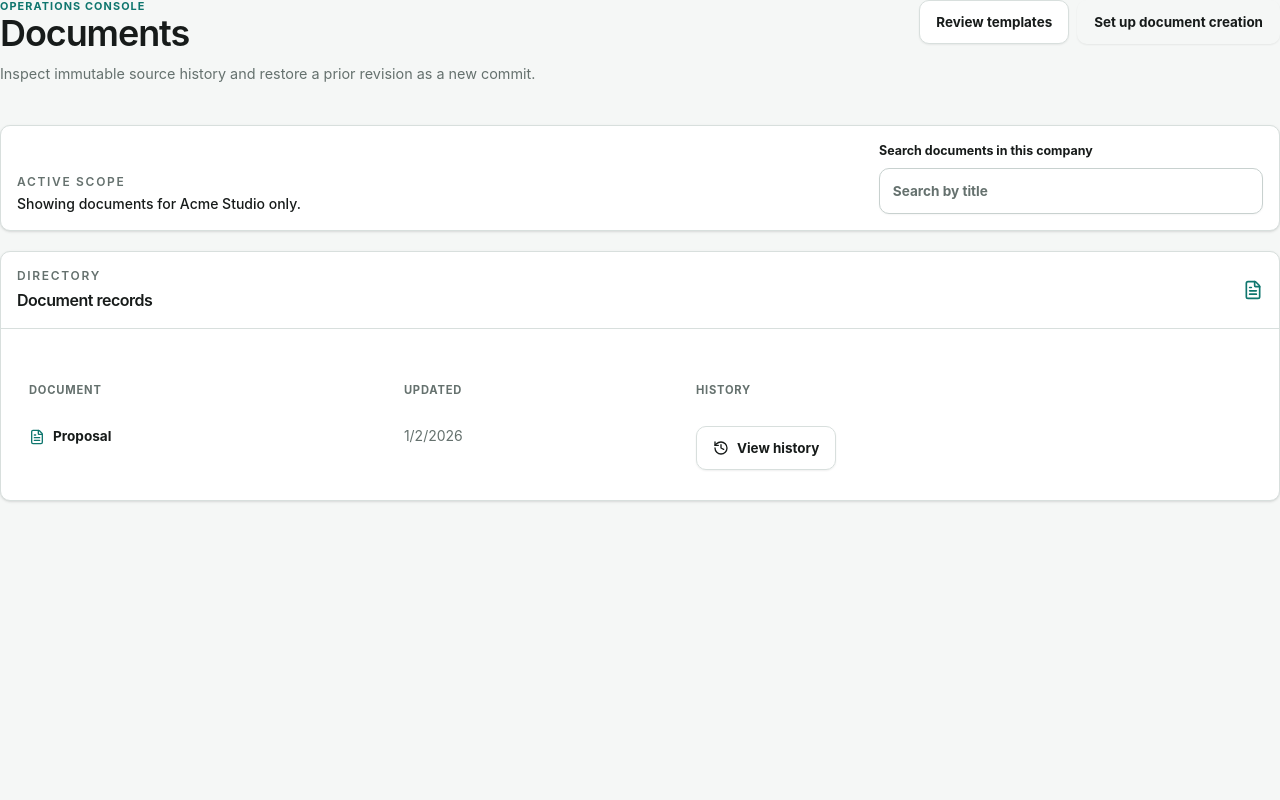
Test: DocumentsDashboard › shows commit metadata and loads historical source when a commit is selected
Click the button "View history" at coordinates (766, 448), box 696,426 -> 836,470
(page scrolled)
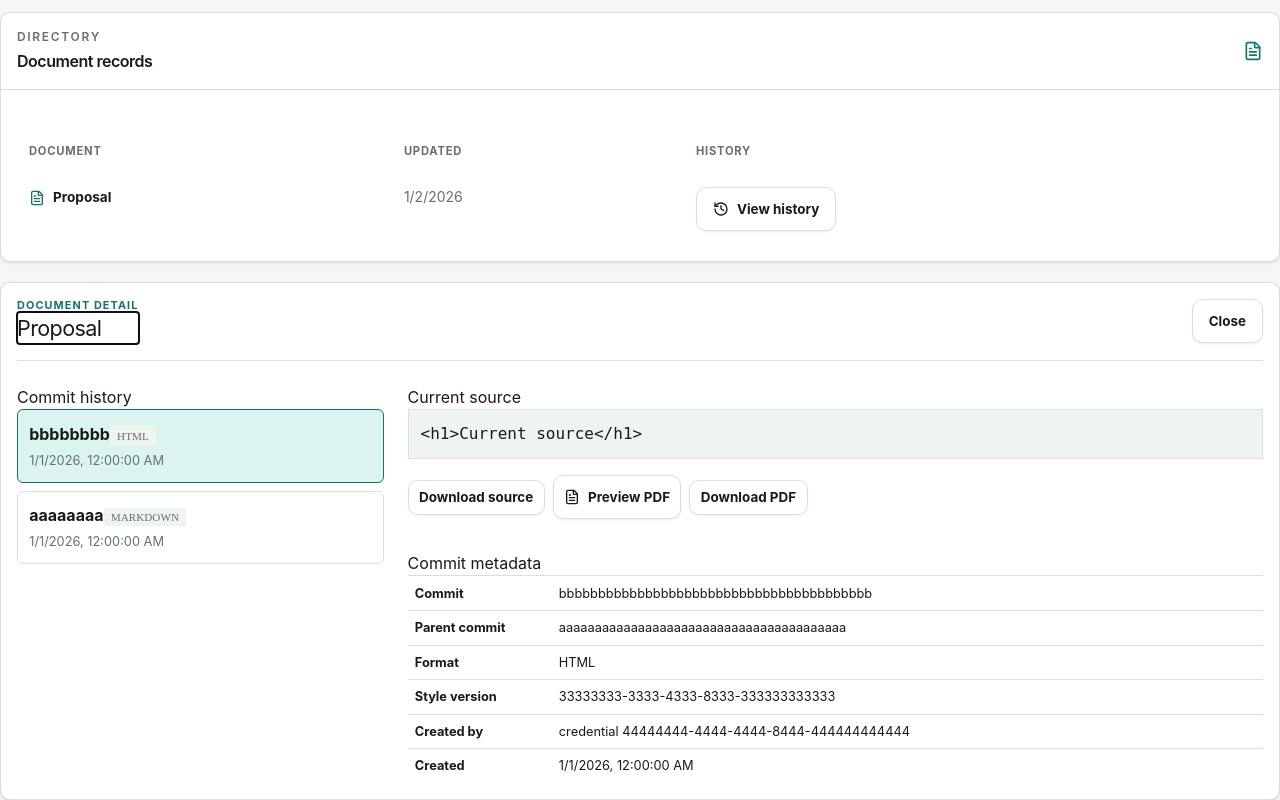
Result: the text "<h1>Current source</h1>" is shown at 408,409 -> 1263,459
Result: the text "HTML" is shown 2 times at 110,426 -> 156,445; 552,644 -> 1263,679
Result: the text "33333333-3333-4333-8333-333333333333" is shown at 552,679 -> 1263,714
Click the 5th button at coordinates (66, 515), box 17,491 -> 384,564
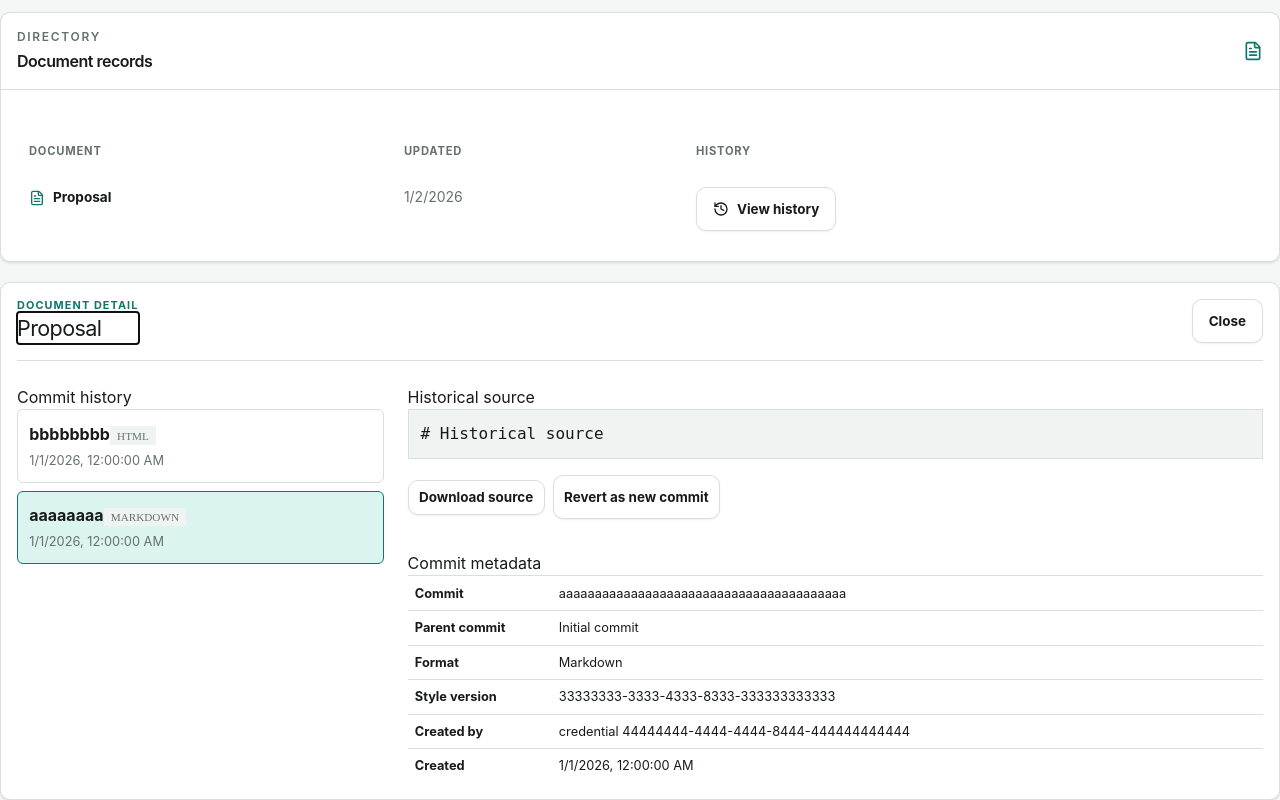
Result: the text "# Historical source" is shown at 408,409 -> 1263,459
Result: the button "Preview PDF" is gone
Result: the link "Download PDF" is gone
